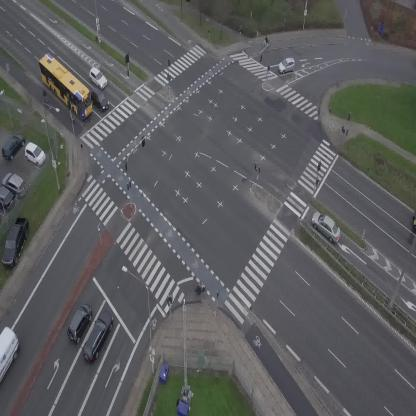bicycle: (194, 283, 207, 296), (41, 89, 48, 103), (261, 36, 270, 46)
bus: (31, 50, 101, 121)
car: (78, 307, 119, 365), (62, 301, 97, 346), (306, 208, 346, 245), (86, 87, 114, 114), (85, 66, 110, 91), (276, 56, 297, 75)
lorry: (0, 326, 18, 382), (413, 215, 416, 231)
